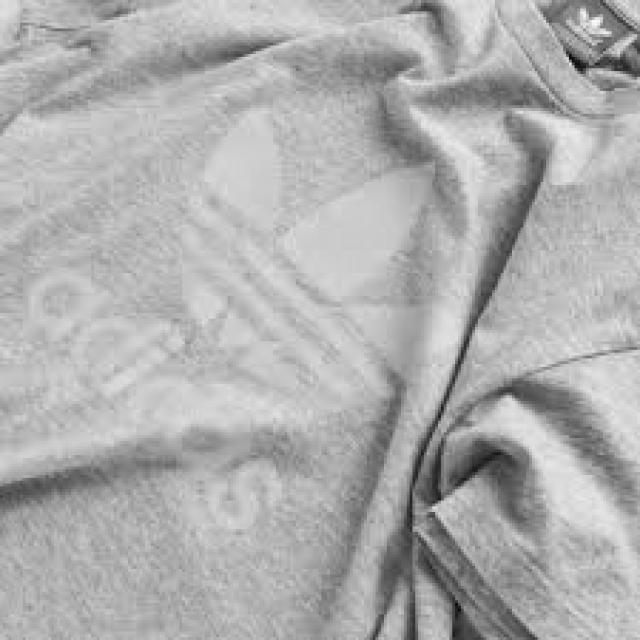Adidas: (154, 91, 489, 404), (561, 0, 632, 62)
